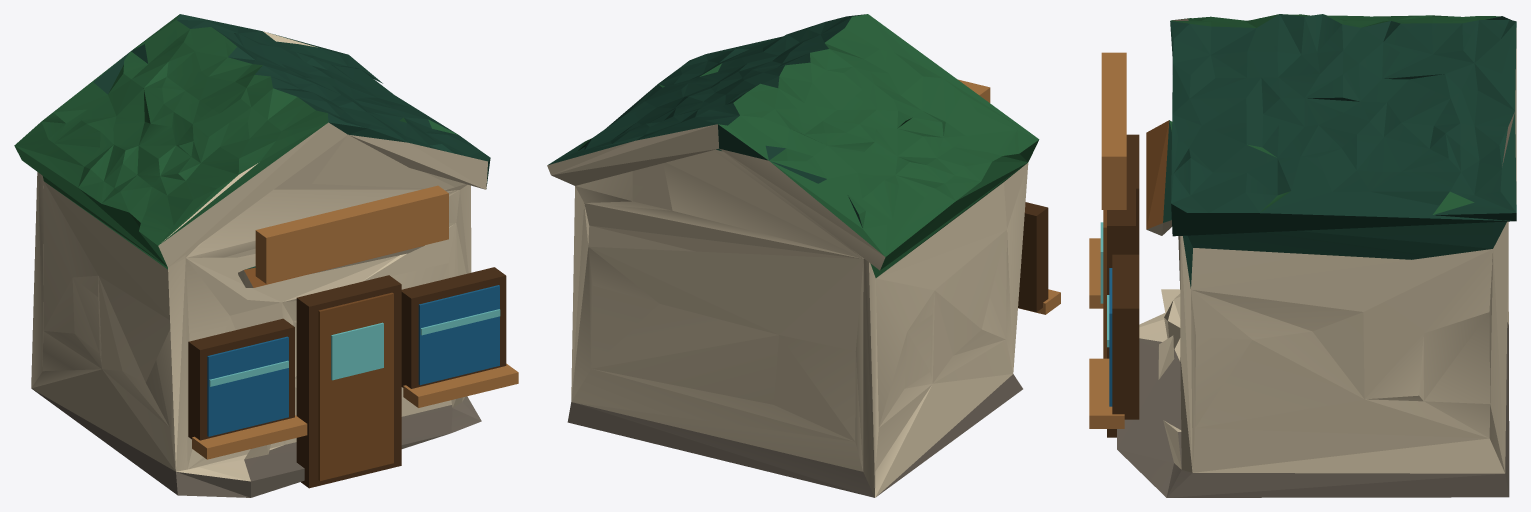
Rendered from bld_negozio_l1.glb.
The picture shows the model from 3 angles, left to right: view 1: azimuth 30°, elevation 25°; view 2: azimuth 150°, elevation 25°; view 3: azimuth 270°, elevation 25°; orthographic projection. The views are drawn at different scales.
Parts seen in each view (by area): view 1: bld_negozio_l1; view 2: bld_negozio_l1; view 3: bld_negozio_l1.
Boxes of the visible parts, x1,y1,x2,y2 form: bld_negozio_l1: (14, 14, 518, 497); bld_negozio_l1: (547, 14, 1060, 497); bld_negozio_l1: (1089, 14, 1516, 497).
Bounding box in the file's own units: 4.4 × 4.2 × 4.12.
